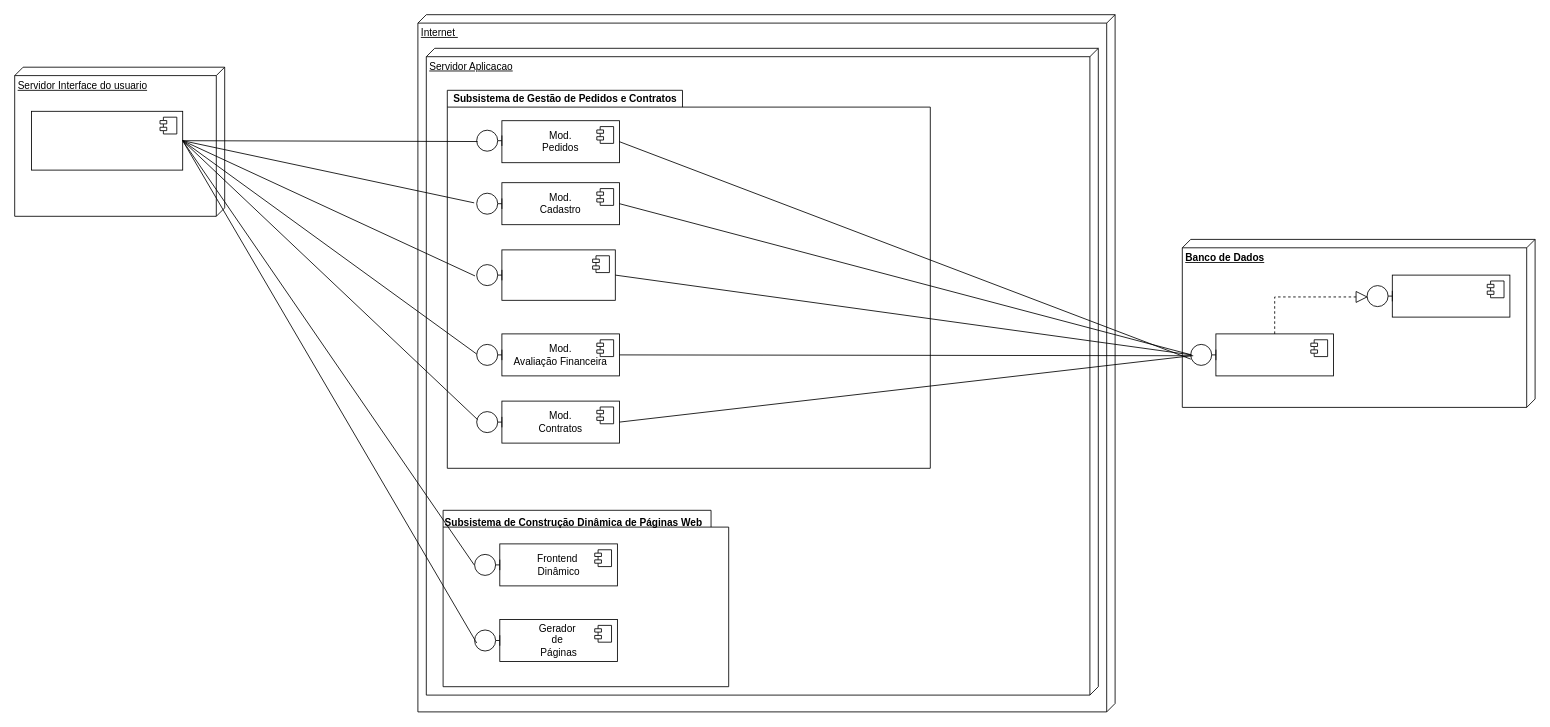
The diagram is 1550 pixels wide and 727 high, and some of its shapes have lost their labels. Each missing label, with the centre of its shape:
"Interface Usuario" goes at point (107, 140).
"Modulo de Registro de Automoveis" goes at point (558, 274).
"Persistência" goes at point (1274, 354).
"SGBD" goes at point (1450, 295).
